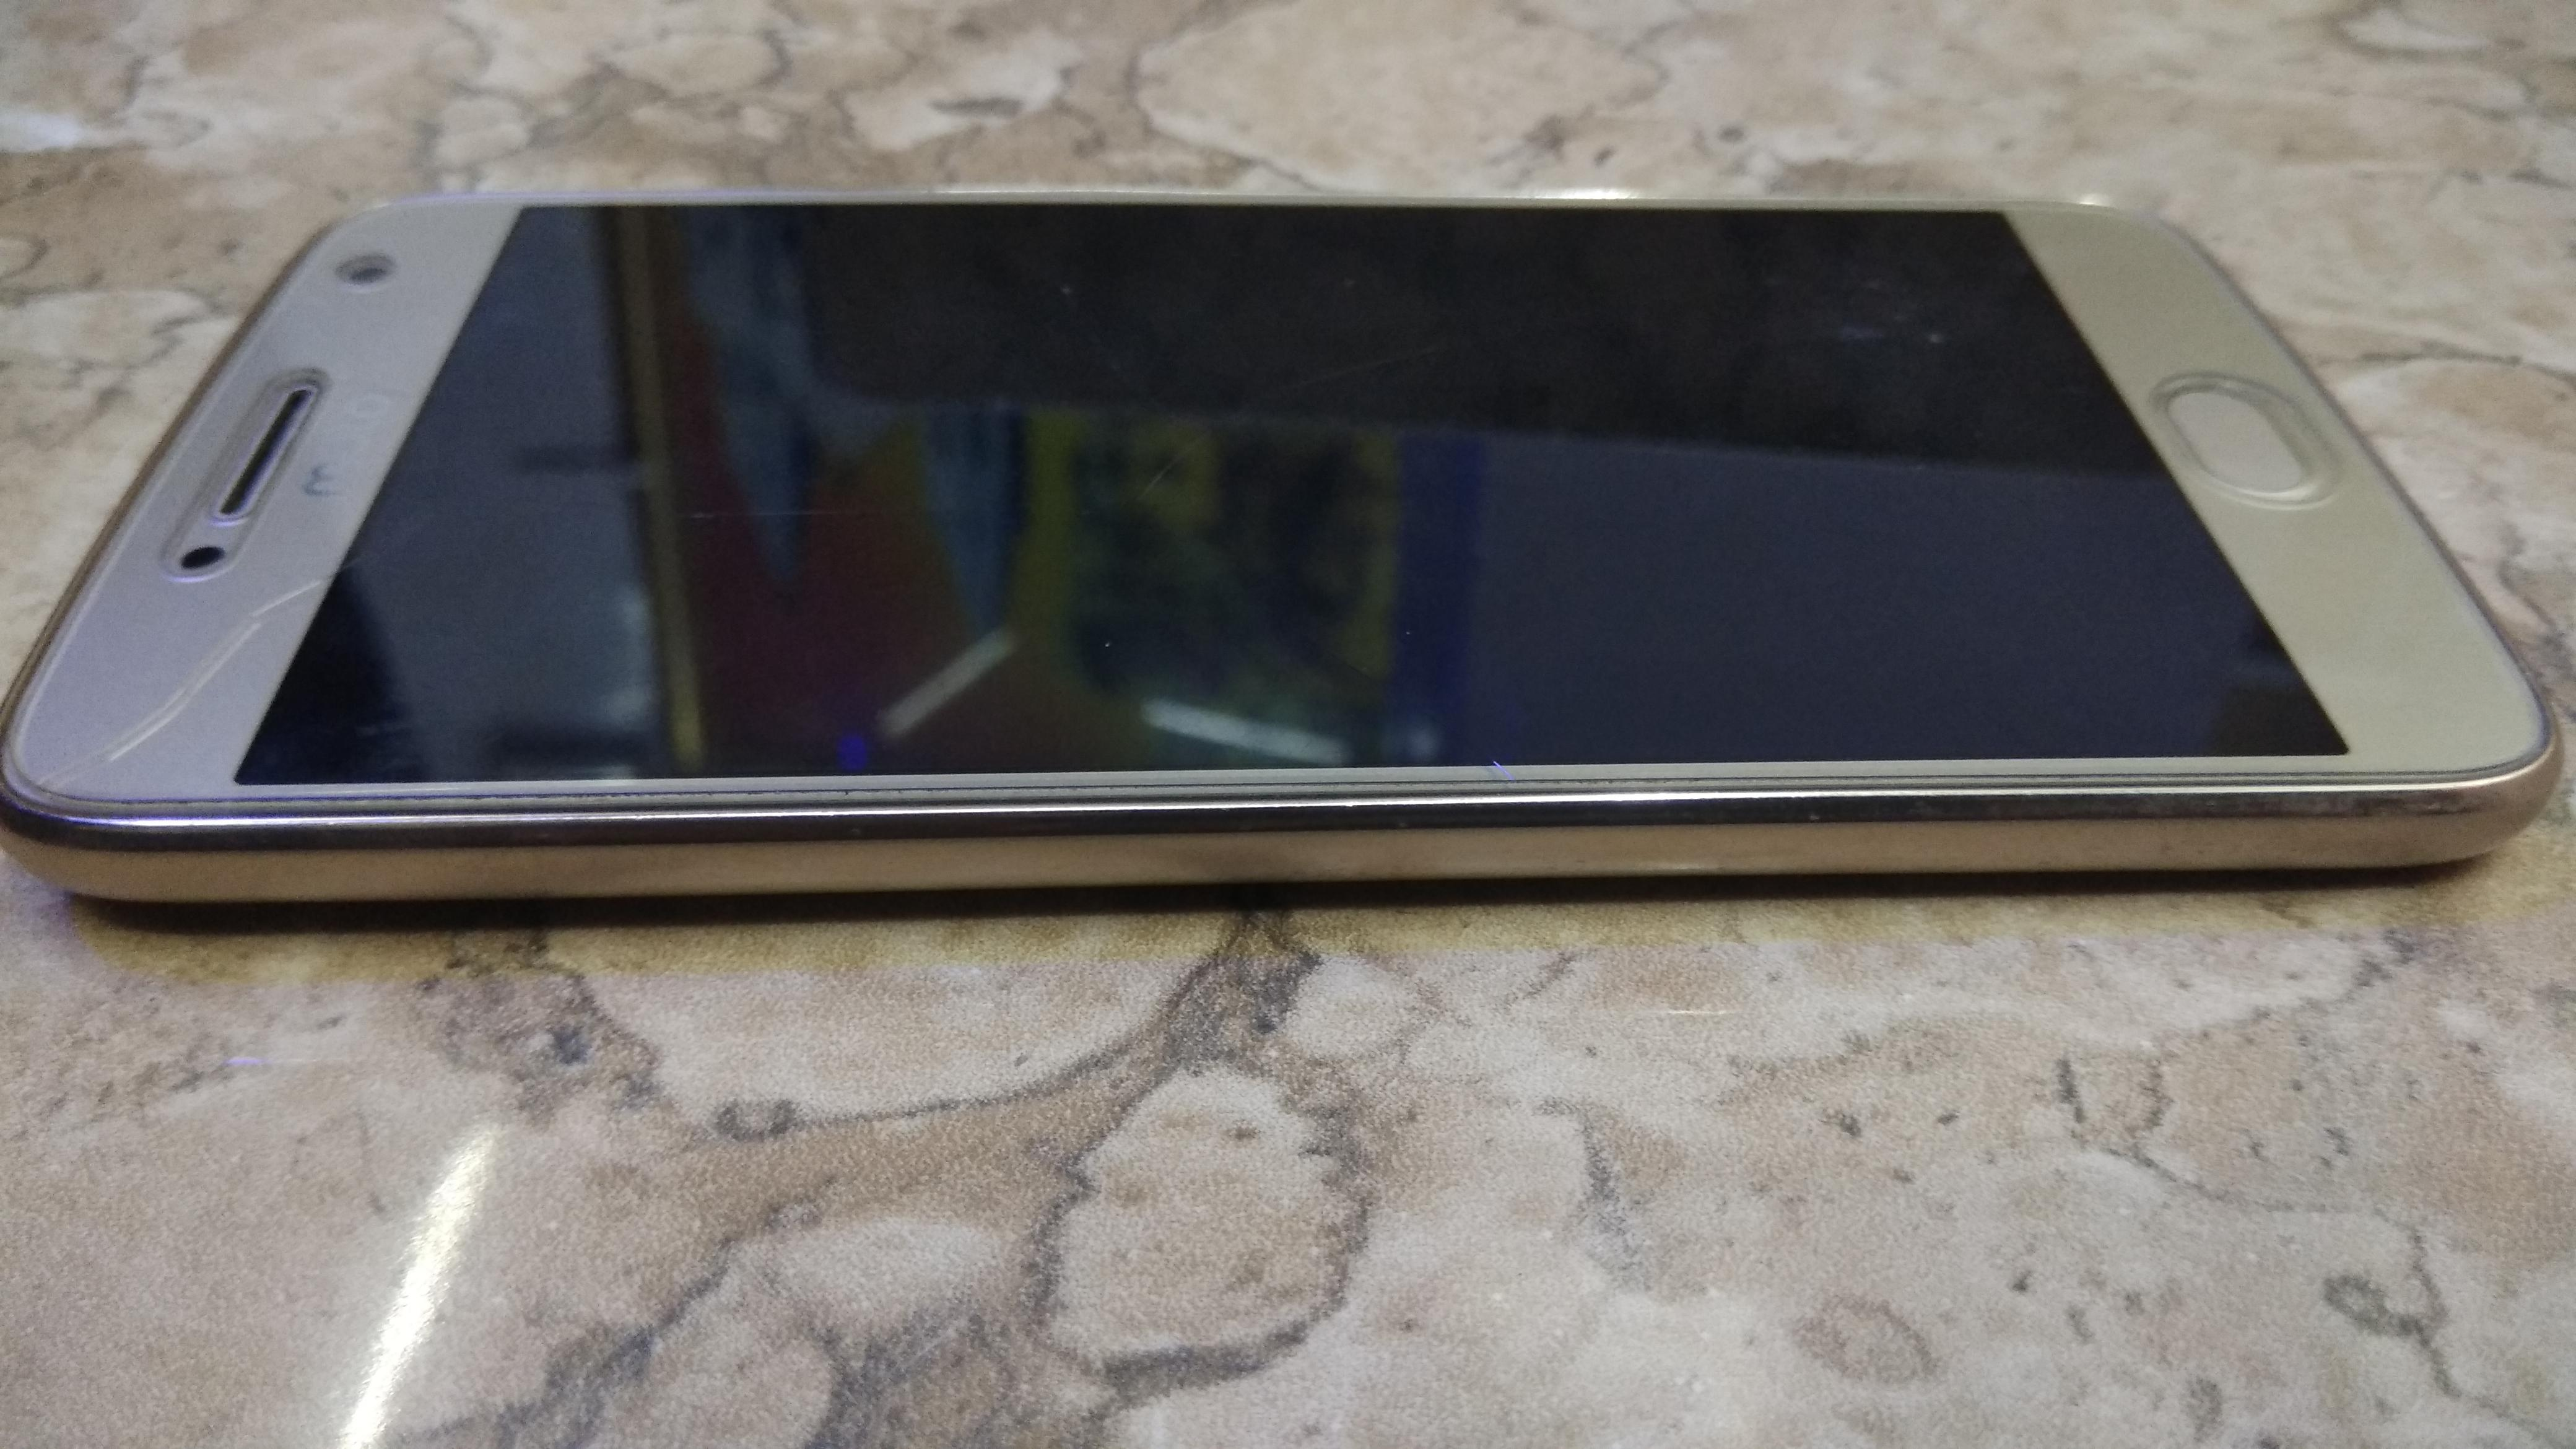Phone: (7, 154, 2572, 1000)
